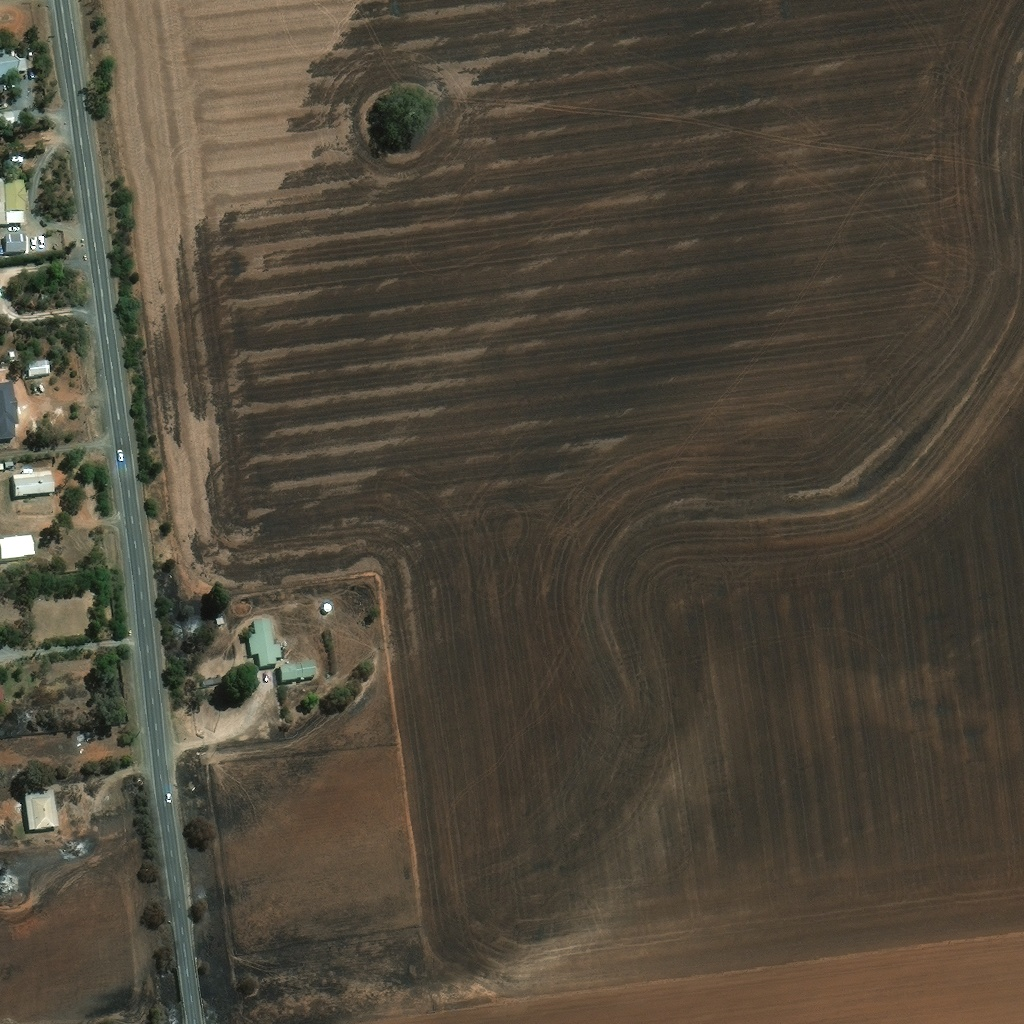0 no-damage: (248, 620, 281, 666), (24, 788, 59, 829), (0, 180, 25, 226), (14, 469, 55, 495), (0, 534, 36, 558), (281, 659, 318, 681), (0, 55, 18, 83), (28, 358, 51, 376), (0, 110, 22, 127), (16, 60, 27, 72), (216, 616, 225, 625), (323, 604, 332, 612), (5, 459, 15, 465), (10, 350, 17, 358), (0, 463, 5, 469)
4 un-classified: (0, 675, 6, 701), (10, 329, 19, 346), (2, 643, 8, 648)
